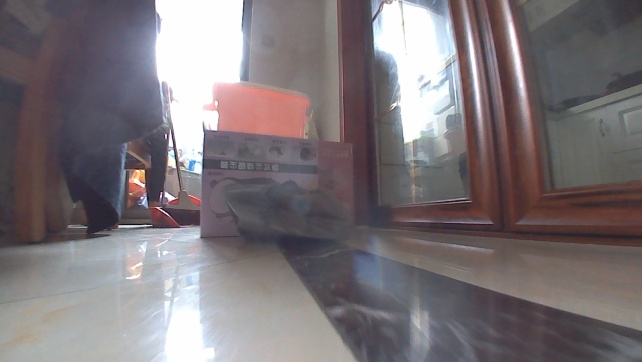cupboard1: (546, 82, 641, 194)
